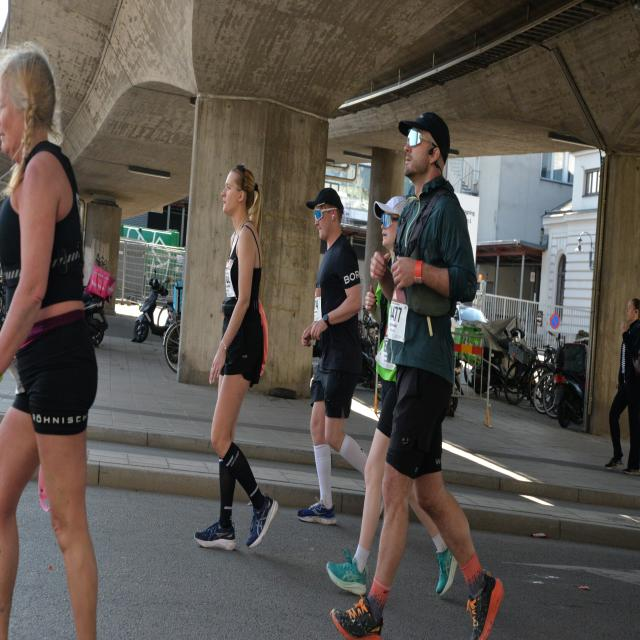runner-detect: (332, 84, 520, 638), (189, 155, 283, 557), (297, 180, 370, 530)
